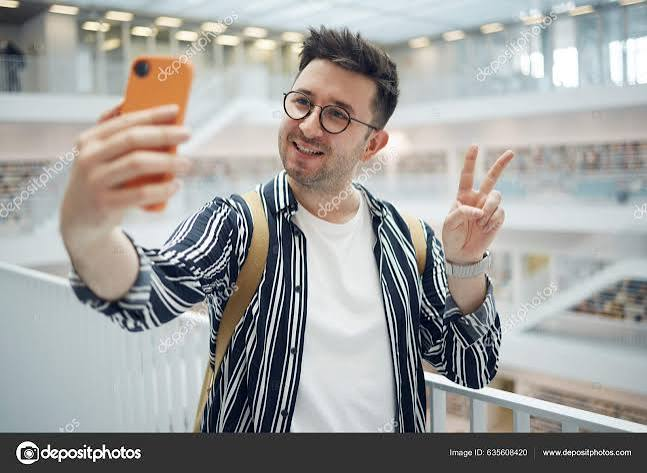peace_sign: (437, 142, 515, 261)
